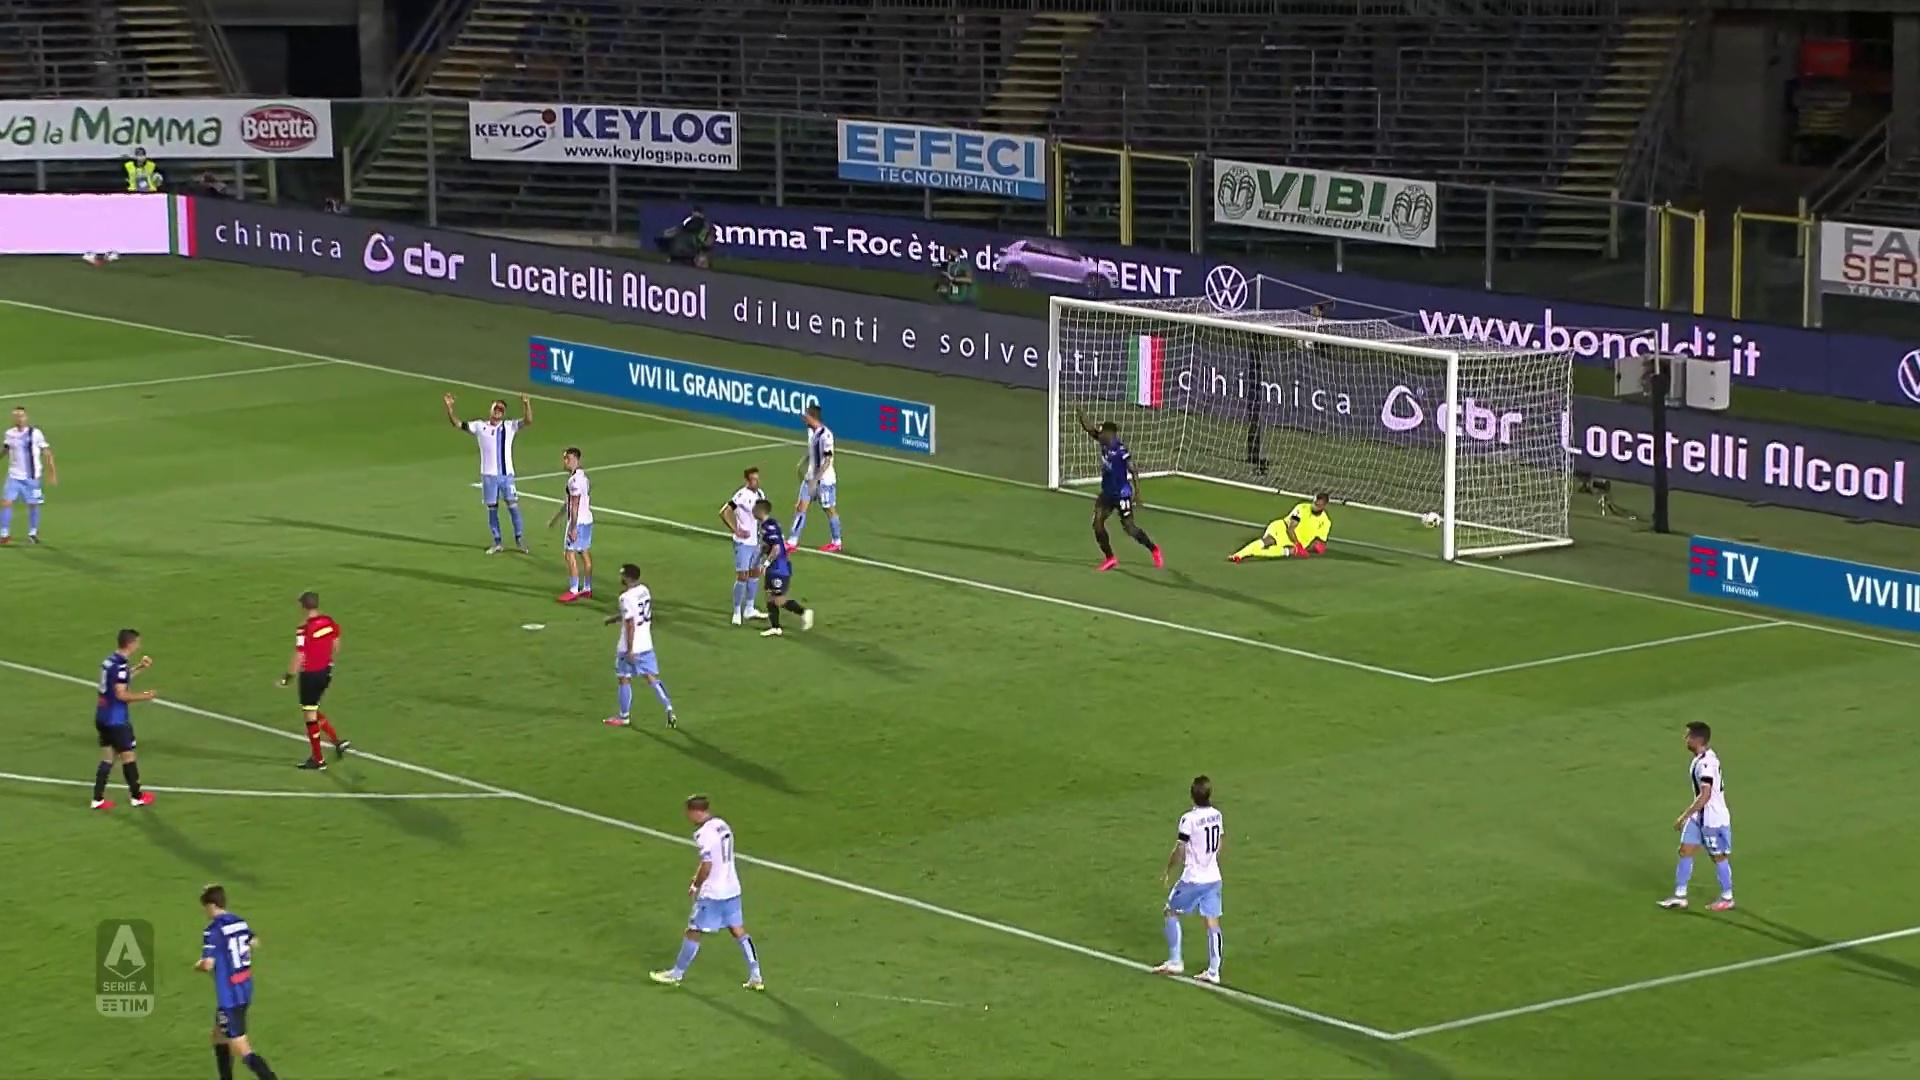ball: (1419, 508, 1445, 532)
goalkeeper: (1228, 491, 1341, 566)
player: (647, 790, 770, 992), (189, 880, 284, 1077), (1151, 768, 1232, 987), (1653, 717, 1739, 914), (441, 388, 540, 557), (91, 628, 163, 816), (600, 563, 678, 734), (1091, 420, 1172, 574), (727, 466, 786, 634), (795, 407, 859, 561), (753, 498, 819, 642), (0, 402, 62, 553), (544, 446, 598, 609)
referee: (273, 586, 359, 775)
